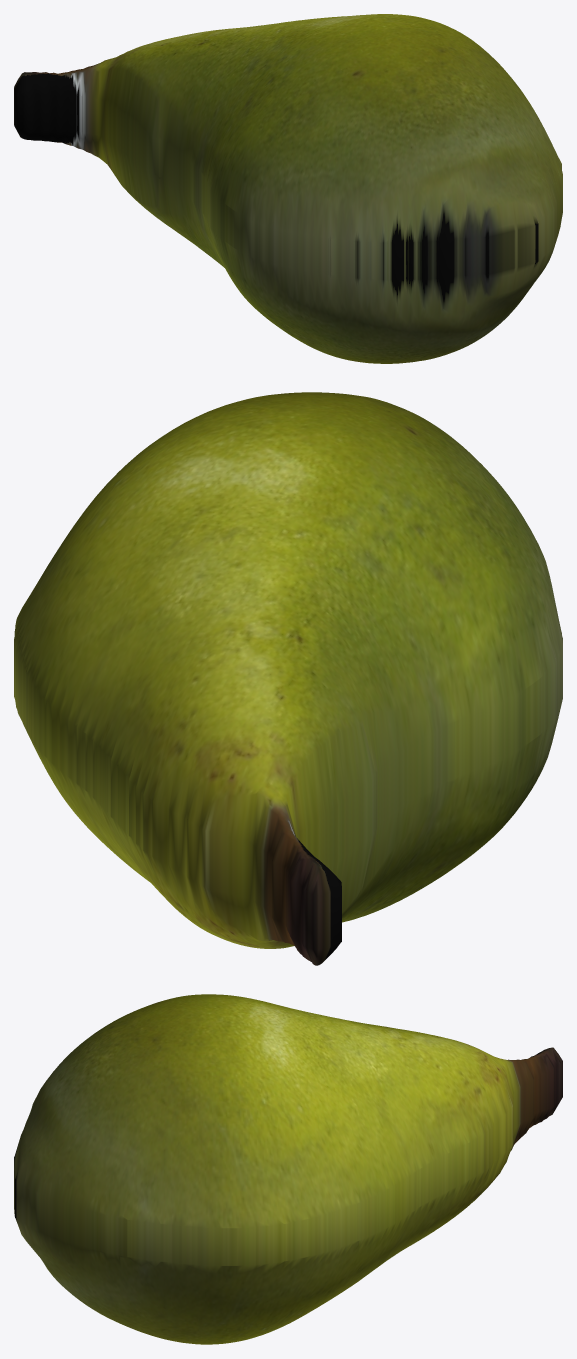
The model's file is green pear_0_2.obj.
3 views of the same model, one above another, from view 1: azimuth 30°, elevation 25°; view 2: azimuth 150°, elevation 25°; view 3: azimuth 270°, elevation 25° (orthographic). The views are drawn at different scales.
Parts seen in each view (by area): view 1: Grid; view 2: Grid; view 3: Grid.
Boxes of the visible parts, box(x1,y1,x2,y2) form: Grid: box(14, 14, 562, 363); Grid: box(14, 392, 562, 965); Grid: box(14, 994, 562, 1344).
Bounding box in the file's own units: 1.4 × 1.2 × 1.88.
1 material, 1 textured.
